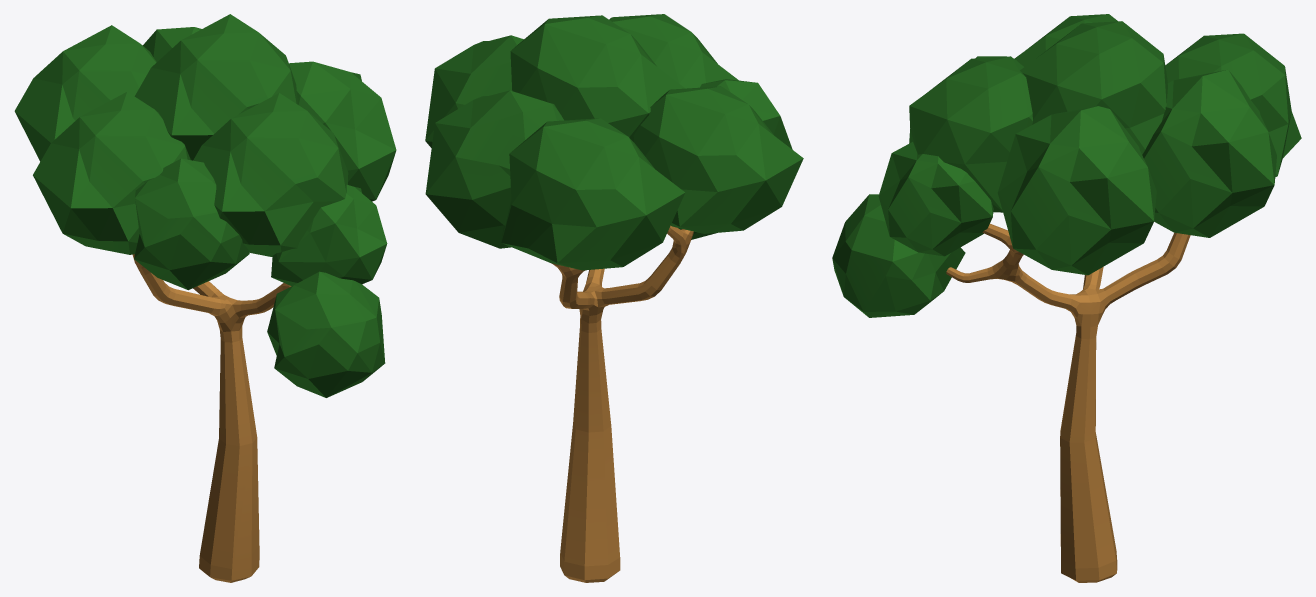
File: tree.042_lev4.glb
The picture shows the model from 3 angles, left to right: view 1: azimuth 30°, elevation 25°; view 2: azimuth 150°, elevation 25°; view 3: azimuth 270°, elevation 25°; orthographic projection. The views are drawn at different scales.
Visible parts, largest first — view 1: tree.042_lev4; view 2: tree.042_lev4; view 3: tree.042_lev4.
Boxes of the visible parts, x1=… form: tree.042_lev4: x1=14, y1=14, x2=396, y2=582; tree.042_lev4: x1=425, y1=14, x2=803, y2=582; tree.042_lev4: x1=832, y1=14, x2=1301, y2=582.
Bounding box in the file's own units: 0.6284 × 1 × 0.7788.
